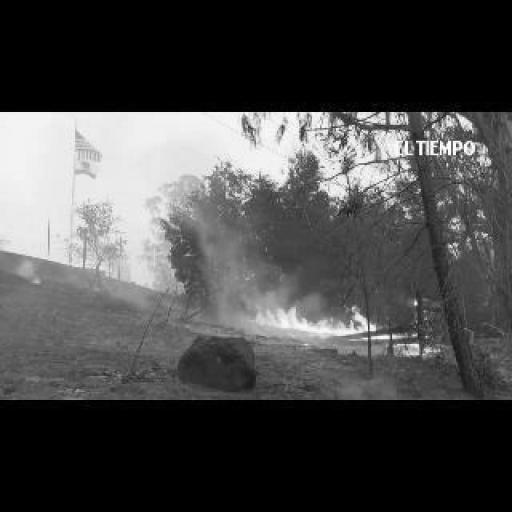smoke: (240, 299, 400, 339), (394, 344, 438, 355)
